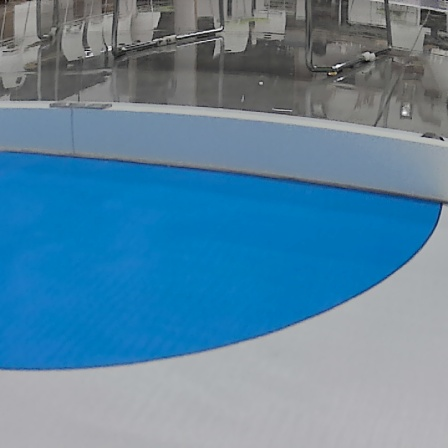blue_base: (2, 145, 444, 372)
